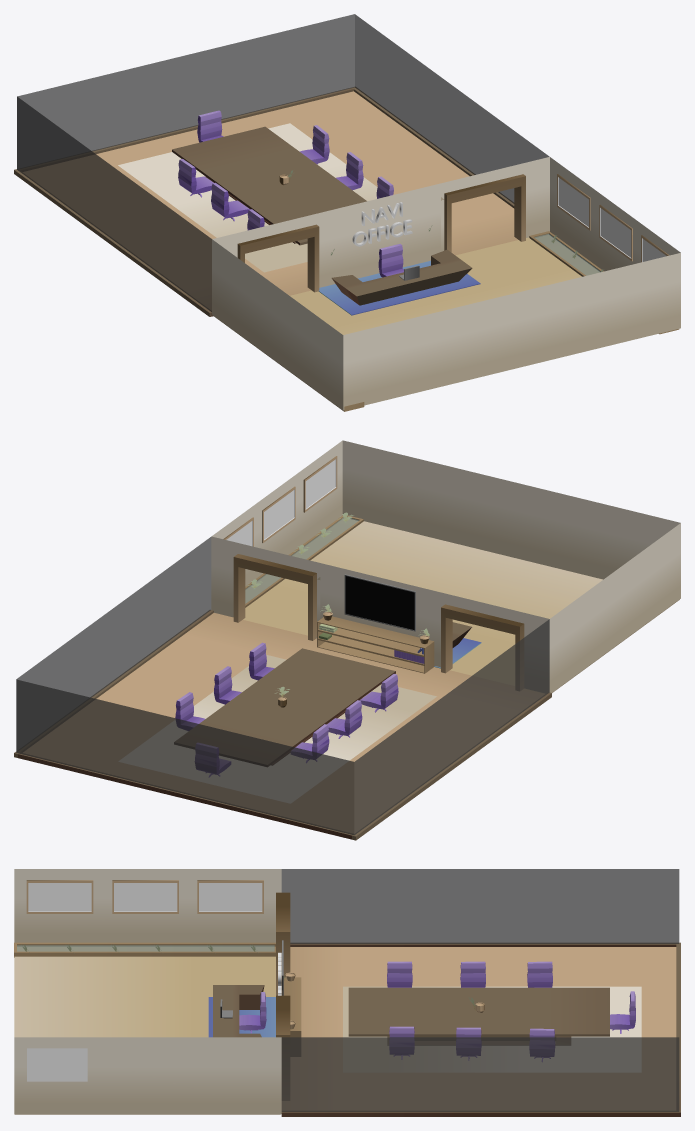
File: navi_office.glb
3 views of the same model, one above another, from view 1: azimuth 30°, elevation 25°; view 2: azimuth 150°, elevation 25°; view 3: azimuth 270°, elevation 25° (orthographic).
Parts seen in each view (by area): view 1: ESTRUCTURA, MESA_REUNIONES, Plane, MESA_RECEPCION, marco_der, Cube.001, marco_izq, NIVELADOR_IZQ, NIVELADOR_FONDO, BAJO_DE_PARED_IZQ_RECIBIDOR, MARCO_RECIBIDOR_IZQ.004, MARCO_RECIBIDOR_IZQ.005 (+9 smaller); view 2: ESTRUCTURA, MESA_REUNIONES, Plane, cajonera_V2, Cube, marco_der, marco_izq, NIVELADOR_FONDO, BAJO_DE_PARED_IZQ_RECIBIDOR, NIVELADOR_IZQ, MARCO_RECIBIDOR_IZQ.006, MARCO_RECIBIDOR_IZQ.005 (+9 smaller); view 3: ESTRUCTURA, MESA_REUNIONES, Plane, BAJO_DE_PARED_RECIBIDOR, NIVELADOR_DERECHA, MARCO_RECIBIDOR_IZQ.001, MARCO_RECIBIDOR_IZQ.002, MARCO_RECIBIDOR_IZQ.003, MARCO_RECIBIDOR_IZQ.006, MESA_RECEPCION, Plane.001, NIVELADOR_IZQ (+13 smaller).
Part boxes in pixels (<box>): ESTRUCTURA: <box>17,14,680,410</box>; MESA_REUNIONES: <box>172,126,366,245</box>; Plane: <box>118,123,377,272</box>; MESA_RECEPCION: <box>331,249,472,305</box>; marco_der: <box>444,174,525,252</box>; Cube.001: <box>318,260,480,315</box>; marco_izq: <box>237,224,319,292</box>; NIVELADOR_IZQ: <box>14,169,213,316</box>; NIVELADOR_FONDO: <box>19,88,353,171</box>; BAJO_DE_PARED_IZQ_RECIBIDOR: <box>529,231,679,334</box>; MARCO_RECIBIDOR_IZQ.004: <box>557,174,590,230</box>; MARCO_RECIBIDOR_IZQ.005: <box>599,205,632,261</box>; ESTRUCTURA: <box>16,440,680,835</box>; MESA_REUNIONES: <box>174,648,395,766</box>; Plane: <box>119,655,436,803</box>; cajonera_V2: <box>317,616,434,673</box>; Cube: <box>344,574,415,631</box>; marco_der: <box>233,554,316,640</box>; marco_izq: <box>441,604,524,690</box>; NIVELADOR_FONDO: <box>18,753,354,839</box>; BAJO_DE_PARED_IZQ_RECIBIDOR: <box>245,515,363,607</box>; NIVELADOR_IZQ: <box>352,692,551,840</box>; MARCO_RECIBIDOR_IZQ.006: <box>303,456,337,512</box>; MARCO_RECIBIDOR_IZQ.005: <box>262,486,295,542</box>; ESTRUCTURA: <box>14,869,679,1114</box>; MESA_REUNIONES: <box>348,987,609,1045</box>; Plane: <box>343,986,641,1072</box>; BAJO_DE_PARED_RECIBIDOR: <box>14,942,275,957</box>; NIVELADOR_DERECHA: <box>281,1110,680,1116</box>; MARCO_RECIBIDOR_IZQ.001: <box>26,880,93,913</box>; MARCO_RECIBIDOR_IZQ.002: <box>112,880,178,913</box>; MARCO_RECIBIDOR_IZQ.003: <box>197,880,263,913</box>; MARCO_RECIBIDOR_IZQ.006: <box>27,1048,87,1081</box>; MESA_RECEPCION: <box>213,985,264,1037</box>; Plane.001: <box>17,945,274,951</box>; NIVELADOR_IZQ: <box>290,942,680,946</box>.
Bounding box in the file's own units: 2.02 × 0.4935 × 3.35.
Materials: 3 (1 with a texture image).
